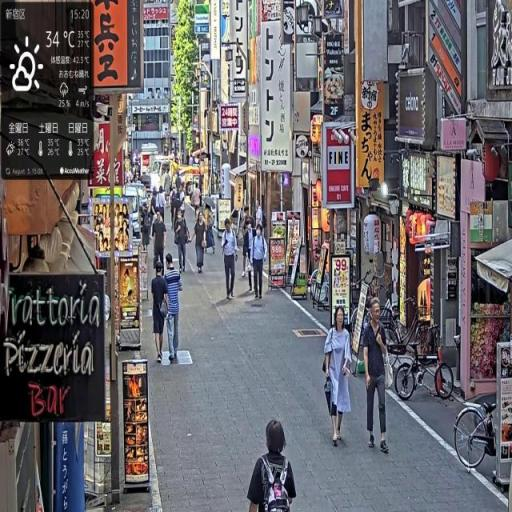person: (247, 418, 299, 512), (322, 307, 355, 449), (362, 299, 391, 453), (163, 253, 184, 365), (151, 259, 170, 364), (221, 217, 239, 304), (251, 220, 268, 302), (153, 208, 168, 277), (176, 209, 191, 276), (194, 211, 207, 274)
